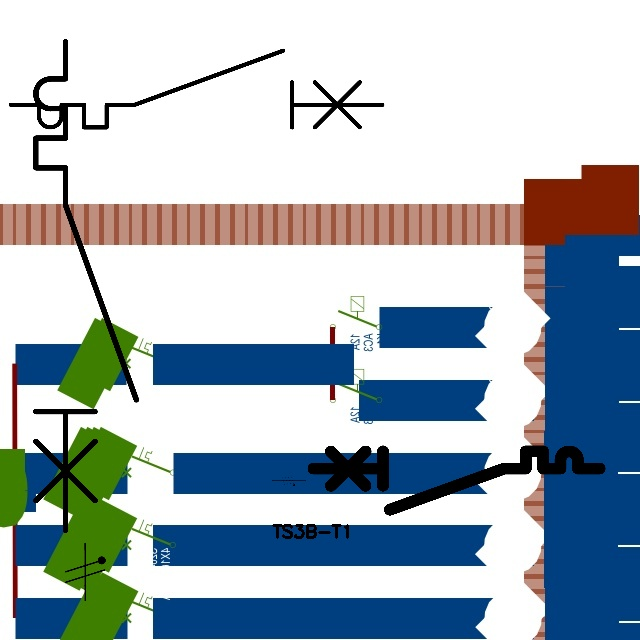interruptor_termomagnetico: (23, 29, 149, 543), (1, 41, 392, 137), (306, 444, 607, 517)
